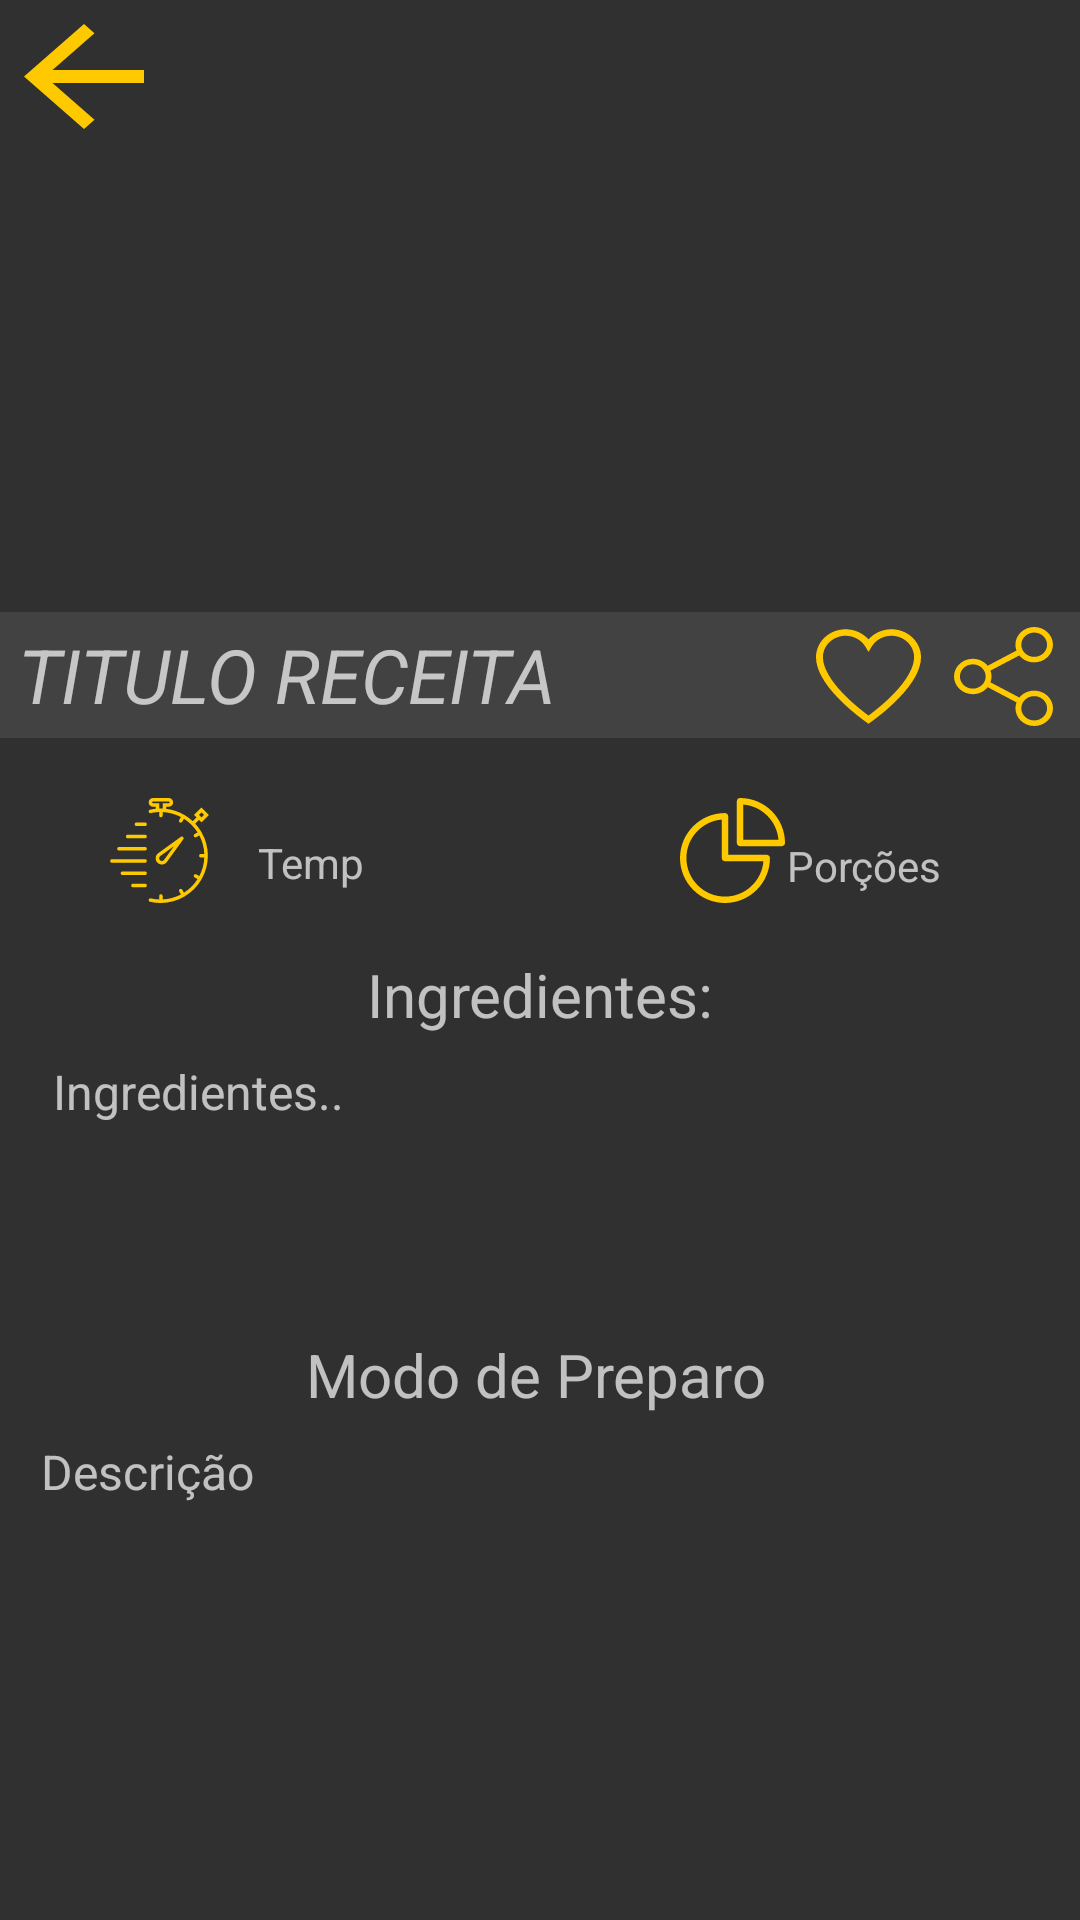

Icons on this 1080x1920 Android screen, each with the point to tap as (x,y):
favorite: (868,676)
go back left arrow: (84,76)
share: (1003,676)
timer: (159,850)
